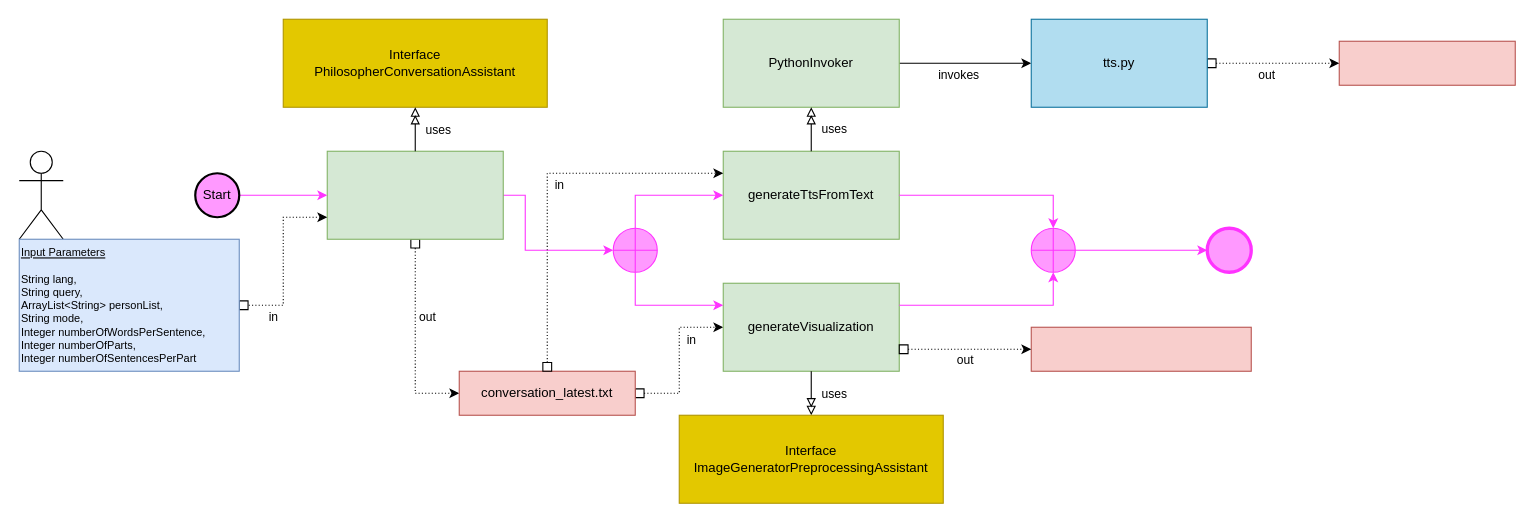
The diagram is 1535 pixels wide and 523 high, and some of its shapes have lost their labels. The shapes that lost their labels are listed below. From the top down, each one's box as (x1, y1, x2, y2) in pixels, then its label:
(1338, 40, 1515, 85): output_<date>_<time>.mp3
(326, 150, 503, 239): simulateConversation
(1206, 227, 1251, 272): End
(1030, 326, 1251, 371): output_image_<date>_<time>.png
